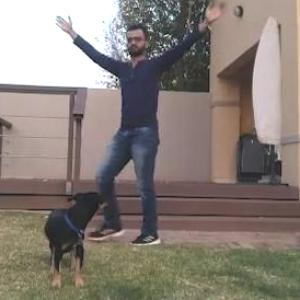takeoff: (47, 5, 227, 258)
